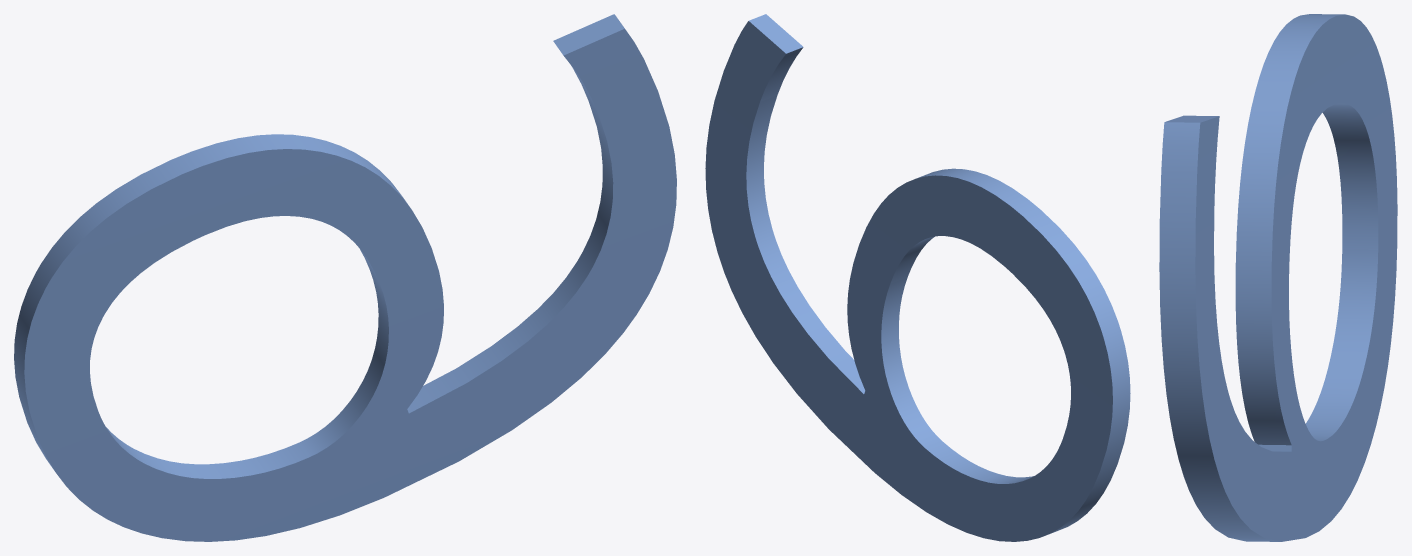
The model's file is New_Number_6.gltf.
The picture shows the model from 3 angles, left to right: view 1: azimuth 30°, elevation 25°; view 2: azimuth 150°, elevation 25°; view 3: azimuth 270°, elevation 25°; orthographic projection. The views are drawn at different scales.
Parts seen in each view (by area): view 1: Part 465; view 2: Part 465; view 3: Part 465.
Boxes of the visible parts, x1,y1,x2,y2 form: Part 465: (14, 14, 676, 541); Part 465: (705, 14, 1130, 541); Part 465: (1159, 14, 1397, 541).
Bounding box in the file's own units: 0.00529 × 0.00426 × 0.00165.
